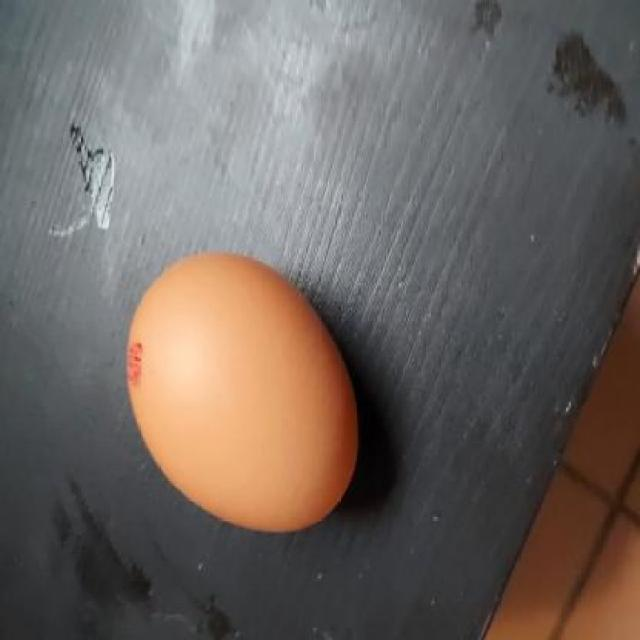biodegradable: (126, 253, 359, 535)
